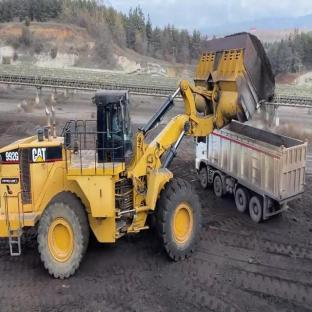ExcavationMachinery: (89, 60, 282, 212)
Vehicle: (195, 111, 312, 223)
